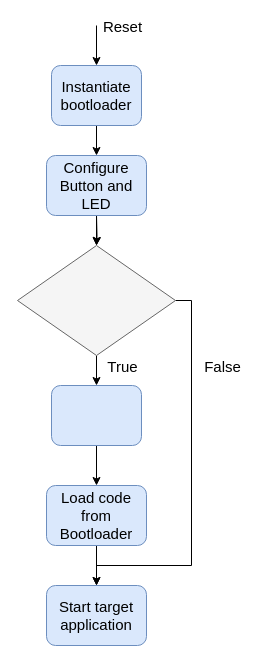
This 258x663 diagram has some shape labels left out. The shapes that lost their labels are listed below. From the top down, each one's centre as x and y in pixels, then its label:
At pixel 96 300: "Is user button is pressed?".
At pixel 96 415: "Turn on LED".
